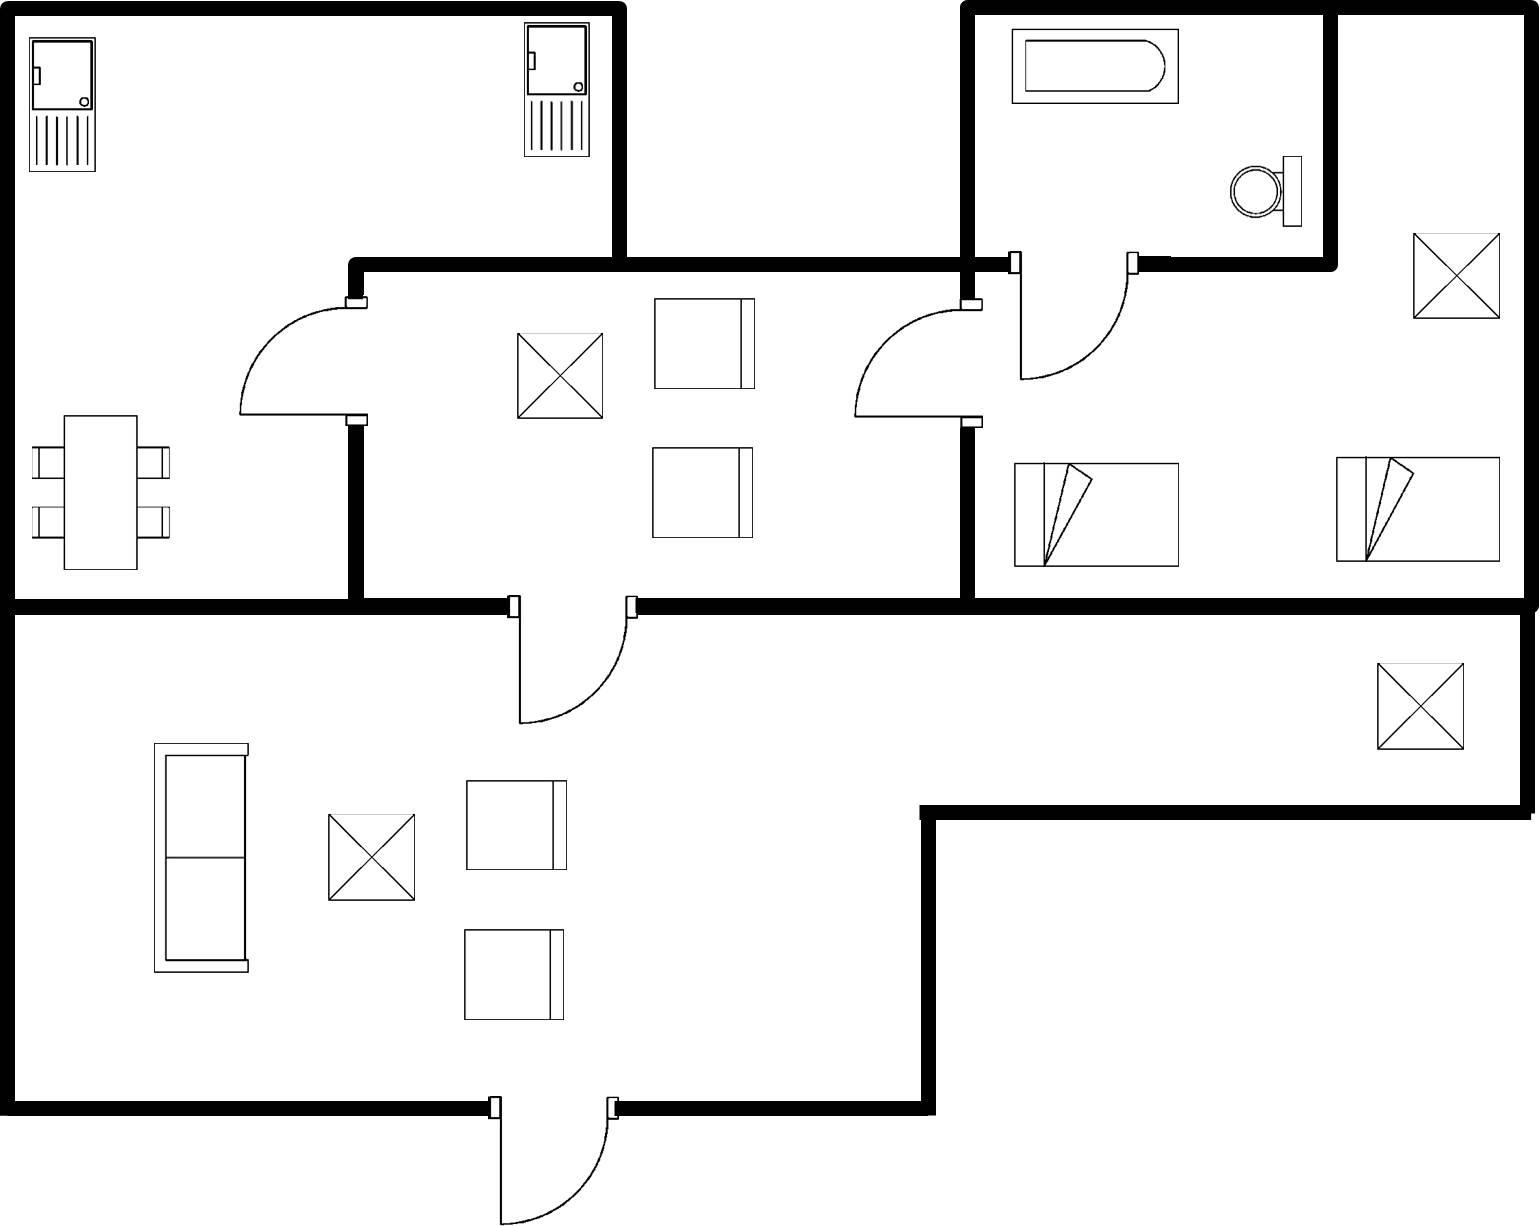bed: (1328, 445, 1511, 570), (1006, 455, 1187, 574)
dining_table: (26, 407, 179, 578)
sink: (20, 28, 104, 183), (514, 18, 597, 164)
sofa: (145, 732, 258, 990)
toilet: (1219, 148, 1310, 239)
tub: (1003, 20, 1187, 113)
